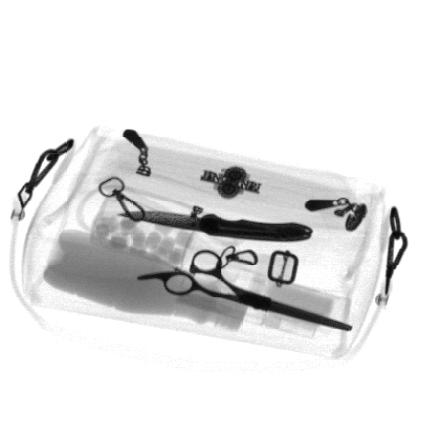Knife: (114, 210, 313, 242)
Scissors: (134, 249, 354, 332)
